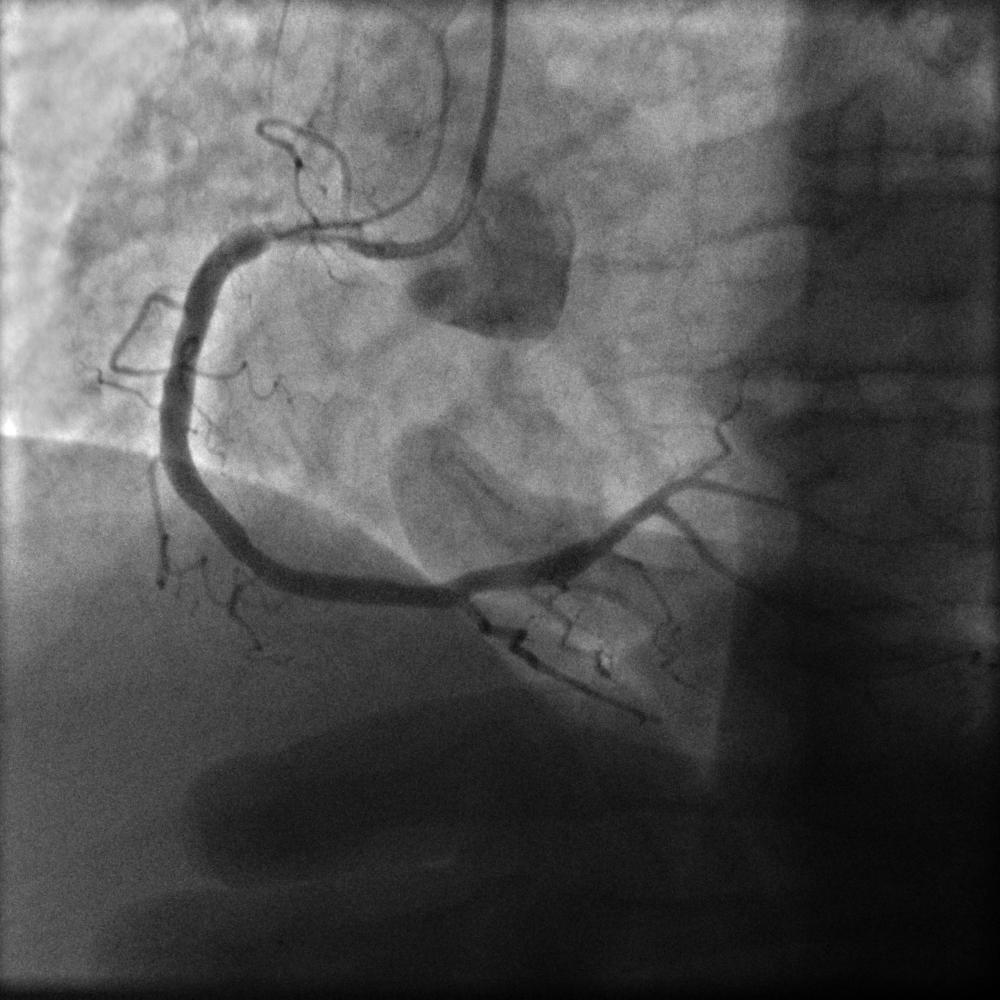Stenosis: (254, 213, 352, 256)
